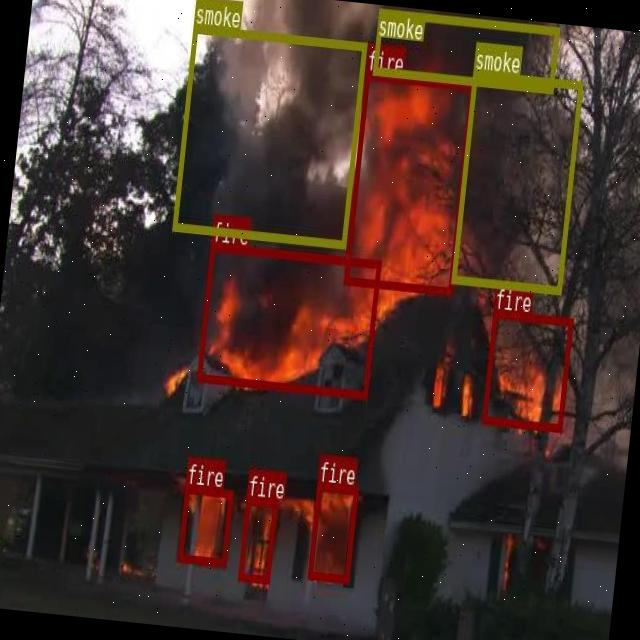fire: (195, 241, 381, 398), (343, 72, 473, 294), (482, 308, 572, 430), (306, 482, 358, 582), (176, 484, 232, 564), (238, 495, 276, 582)
smoke: (170, 23, 366, 246), (450, 70, 582, 292), (372, 8, 558, 90)
